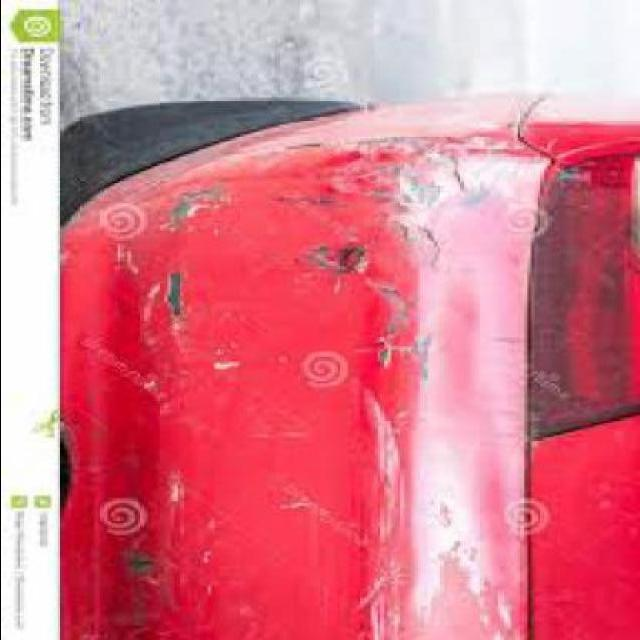rear-bumper-dent: (53, 70, 640, 639)
